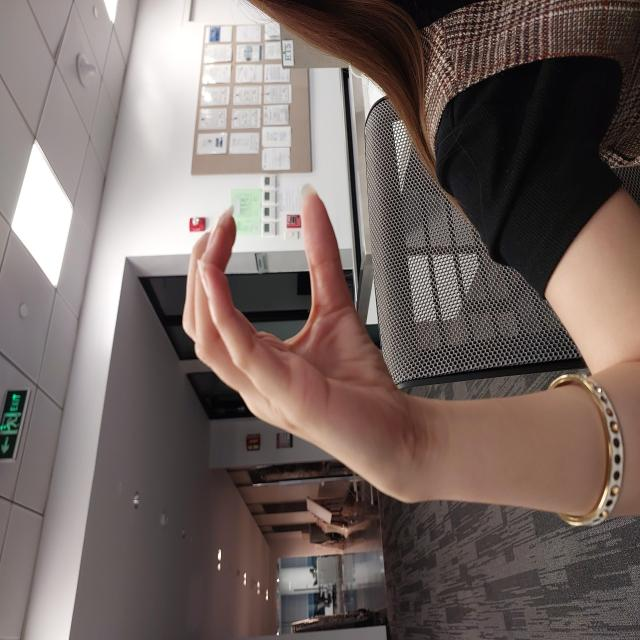C: (134, 179, 462, 421)
